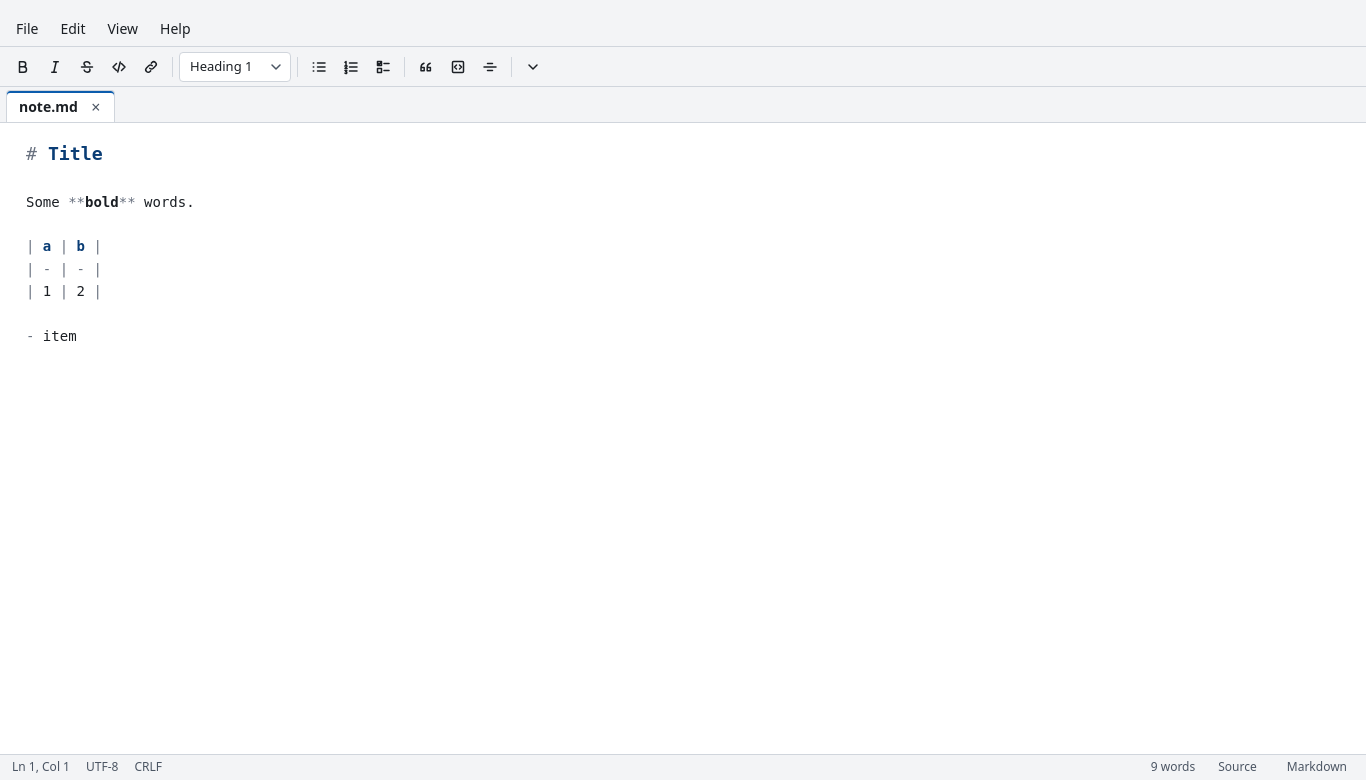
overflow › moves groups that do not fit into a More popup, and back as the window grows
Step 1. Click the button named "More" → click(533, 66), box [518,52,548,82]
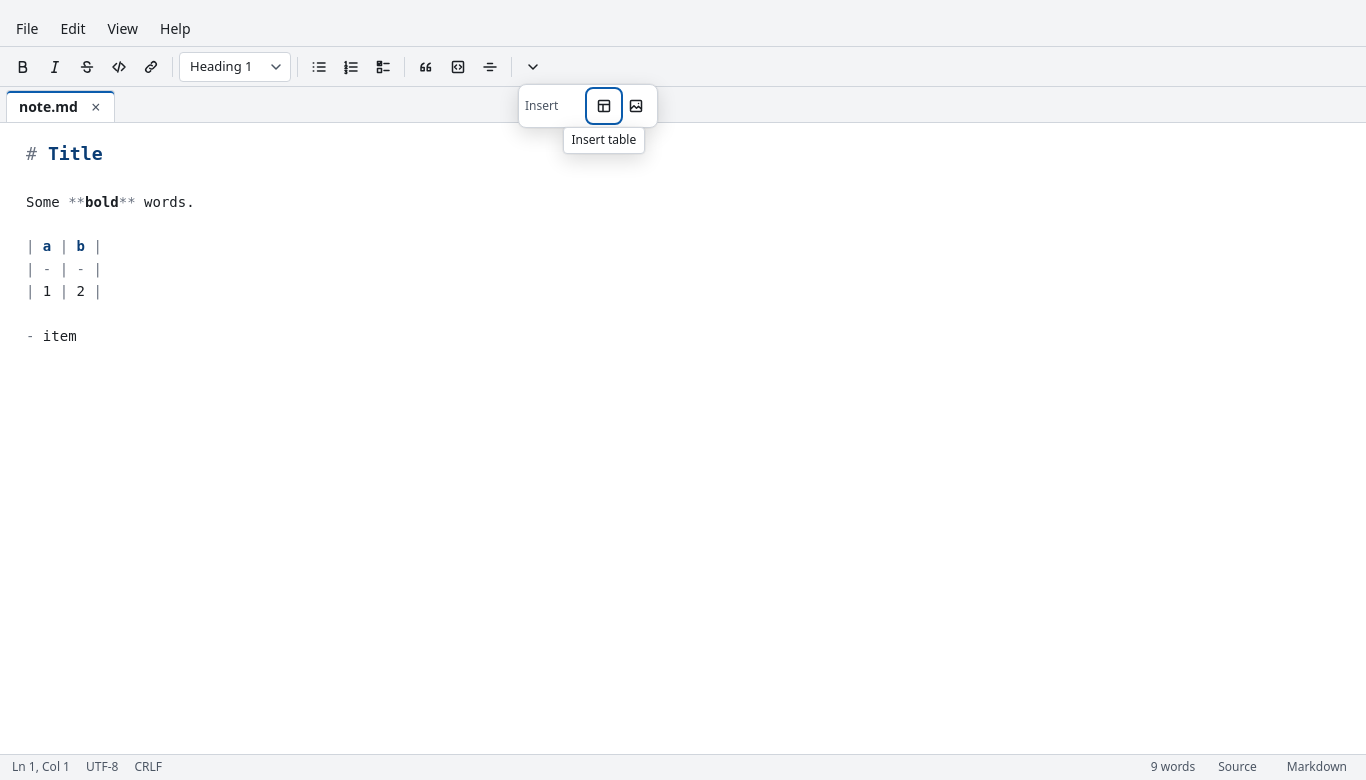
Expected: the element "Insert" is shown, [525,91,651,121]
Expected: the button named "Insert table" is shown
# A button in the popup runs its command and closes it.
Step 2. Click the button named "Insert table" → click(604, 106), box [589,91,619,121]
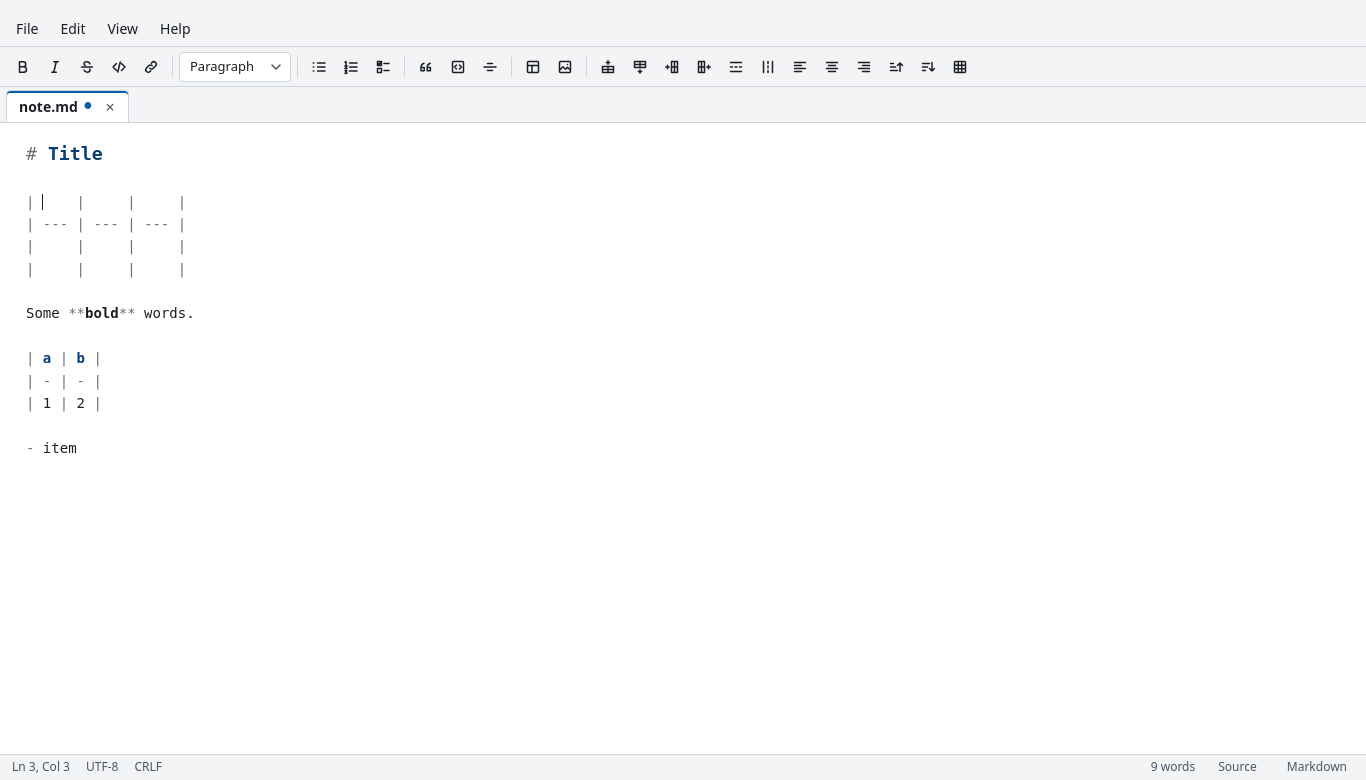
Expected: the button "More" is gone
